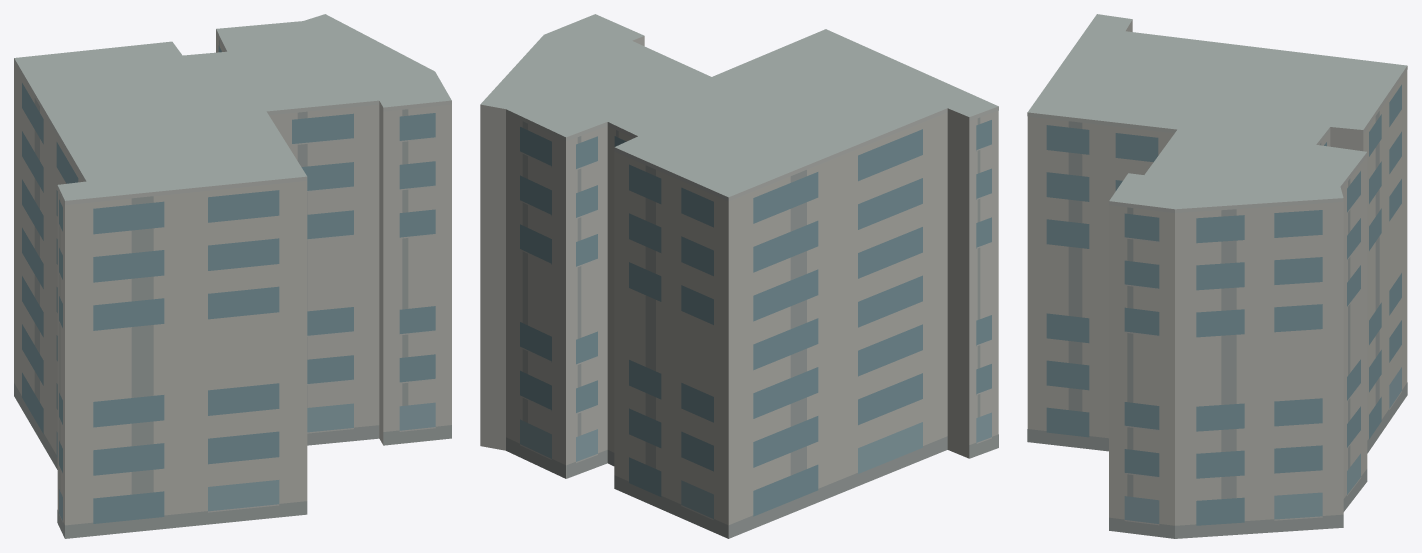
The model's file is survey-upis-32878547.glb.
3 renders of one model, left to right at view 1: azimuth 30°, elevation 25°; view 2: azimuth 150°, elevation 25°; view 3: azimuth 270°, elevation 25°, orthographic. The views are drawn at different scales.
Parts seen in each view (by area): view 1: survey-upis-32878547.tmp; view 2: survey-upis-32878547.tmp; view 3: survey-upis-32878547.tmp.
Boxes of the visible parts, box(x1,y1,x2,y2) form: survey-upis-32878547.tmp: box(14, 14, 451, 538); survey-upis-32878547.tmp: box(480, 14, 998, 538); survey-upis-32878547.tmp: box(1027, 14, 1407, 538).
Bounding box in the file's own units: 25.29 × 19.9 × 20.8.
